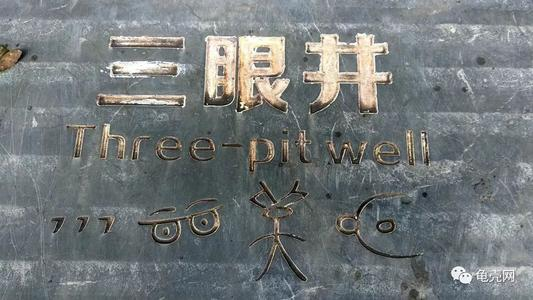chinese: (100, 24, 394, 118), (473, 259, 520, 289)
naxi: (45, 189, 434, 279)
